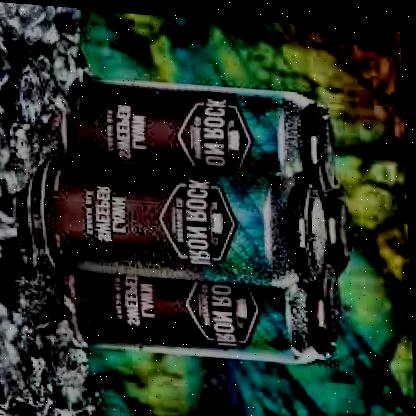Can: (36, 152, 332, 282), (62, 238, 344, 364), (60, 71, 344, 191), (326, 173, 358, 277)
